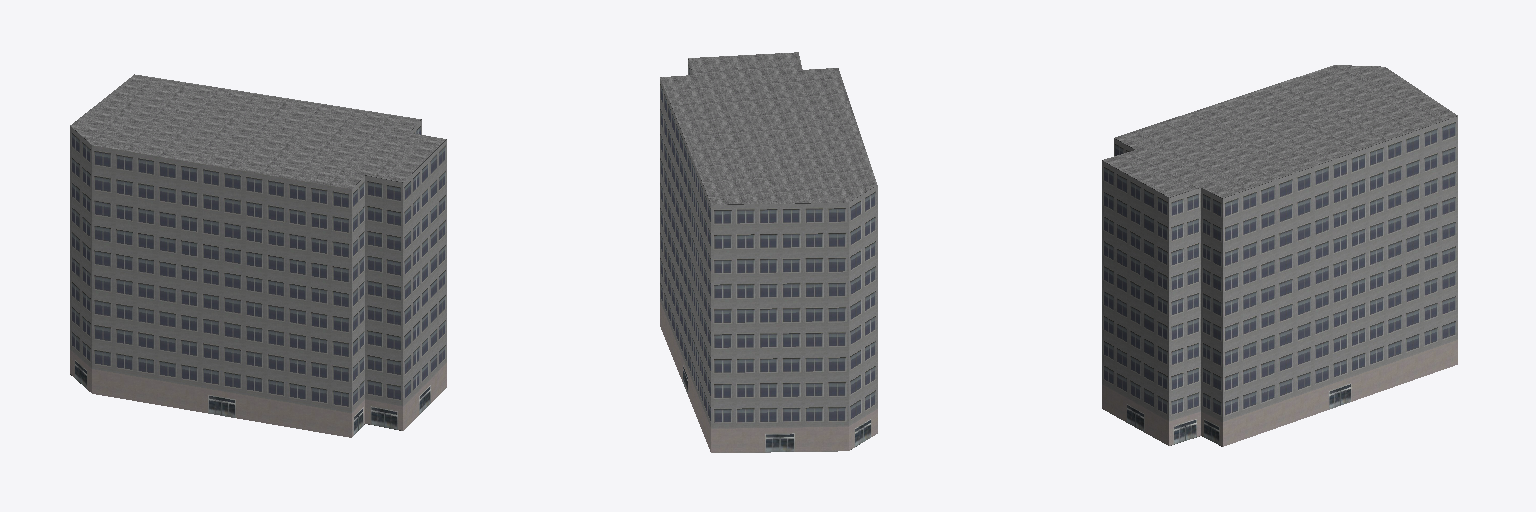
3 views of the same model, side by side, from view 1: azimuth 30°, elevation 25°; view 2: azimuth 150°, elevation 25°; view 3: azimuth 270°, elevation 25° (orthographic).
Visible parts, largest first — view 1: BuildingMaster_[number redacted]_0, BuildingMaster_[number redacted]_1; view 2: BuildingMaster_[number redacted]_0, BuildingMaster_[number redacted]_1; view 3: BuildingMaster_[number redacted]_0, BuildingMaster_[number redacted]_1.
Boxes of the visible parts, x1=… form: BuildingMaster_[number redacted]_0: x1=70, y1=119, x2=446, y2=437; BuildingMaster_[number redacted]_1: x1=70, y1=74, x2=445, y2=188; BuildingMaster_[number redacted]_0: x1=660, y1=59, x2=877, y2=452; BuildingMaster_[number redacted]_1: x1=660, y1=52, x2=876, y2=204; BuildingMaster_[number redacted]_0: x1=1102, y1=116, x2=1457, y2=446; BuildingMaster_[number redacted]_1: x1=1103, y1=65, x2=1457, y2=197.
Size of the model in its own units: 40.3 by 35 by 45.44.
Materials: 2 (2 with a texture image).